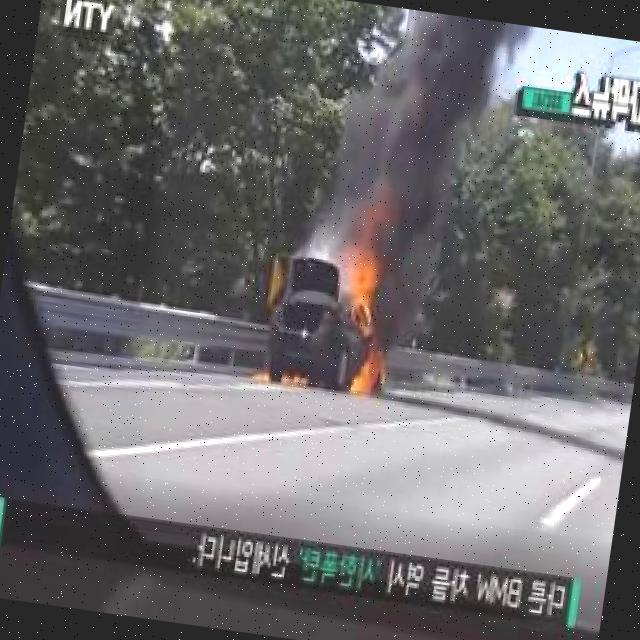Fire: (346, 344, 387, 395), (343, 262, 381, 313)
